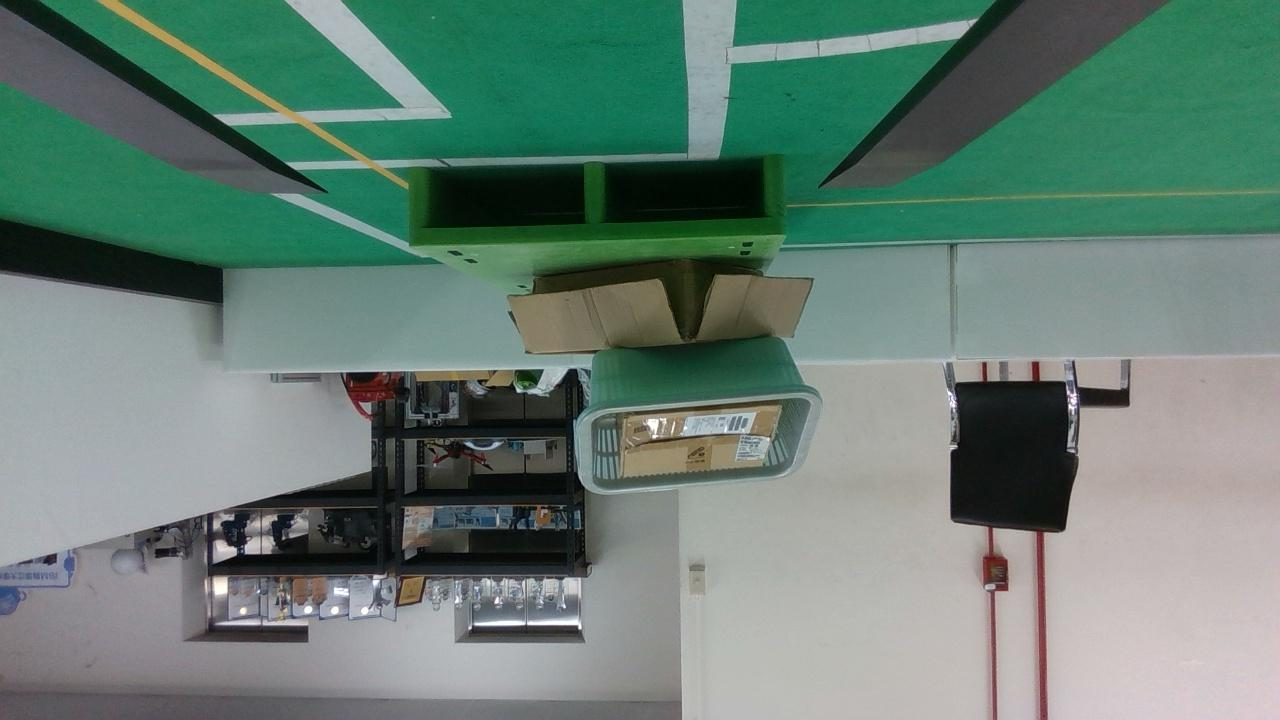Pallet: (407, 157, 782, 244)
